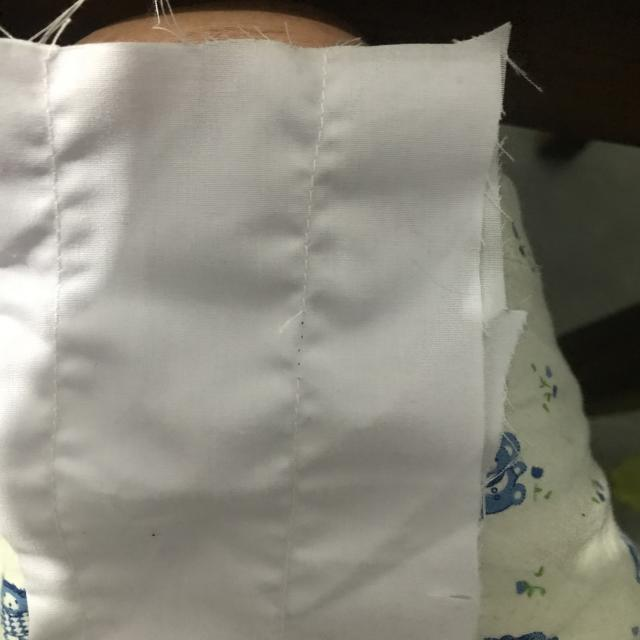broken: (270, 303, 334, 393)
good: (287, 192, 327, 279)
